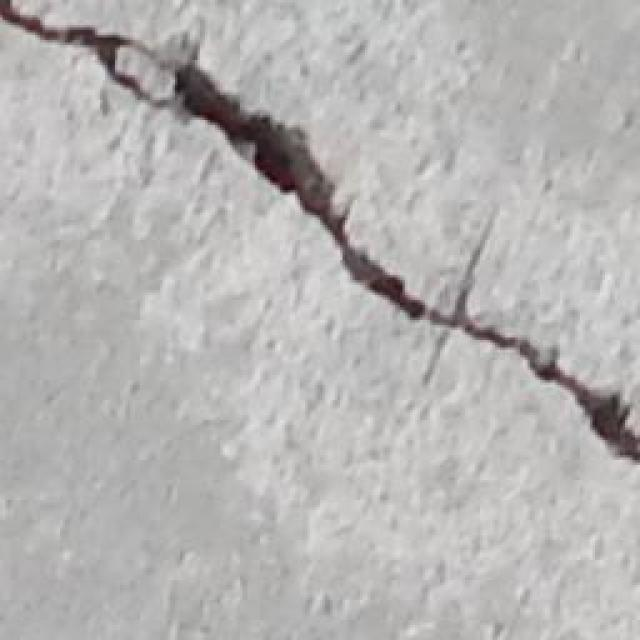concrete-crack: (2, 4, 640, 470)
